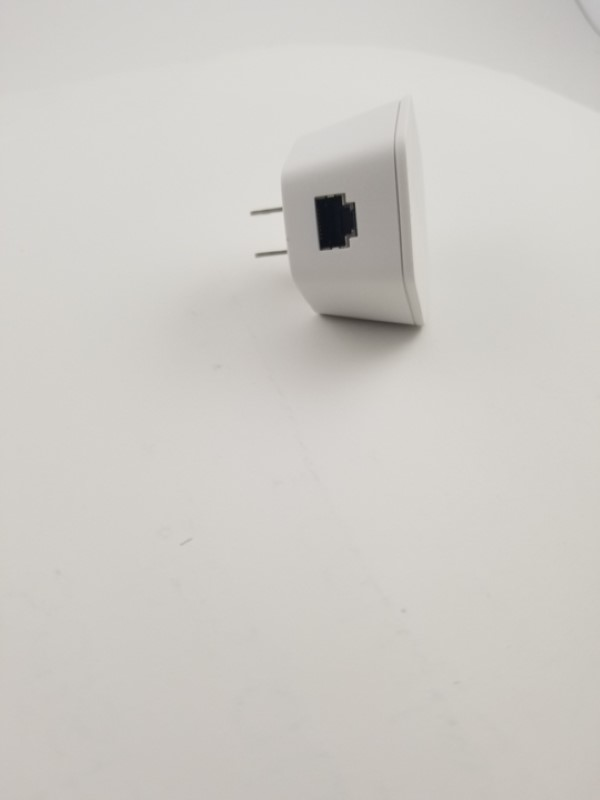pod: (245, 85, 436, 347)
